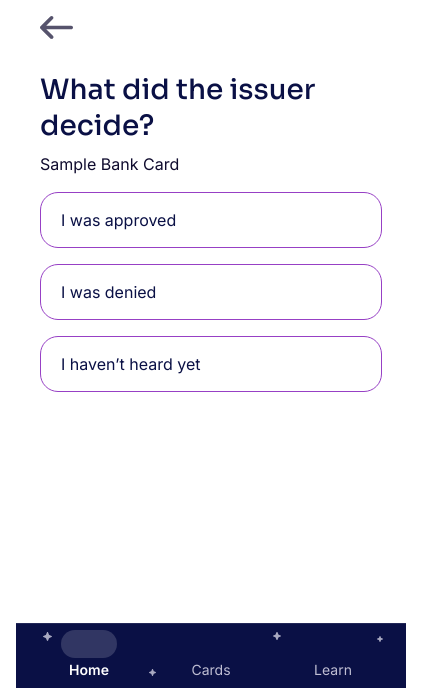
it: MarkResult › shows the frame's hint under the credit limit
Click the button "I was approved" at (119, 220), box left=40, top=192, right=382, bottom=248
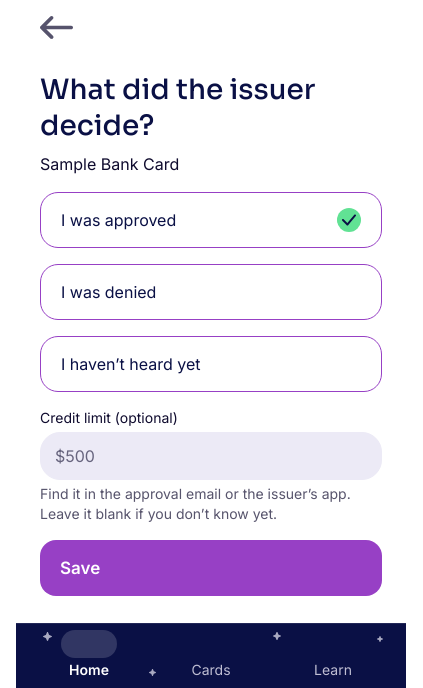
Expected: the text "Find it in the approval email or the issuer’s app. Leave it blank if you don’t know yet." is shown, left=40, top=485, right=351, bottom=522
